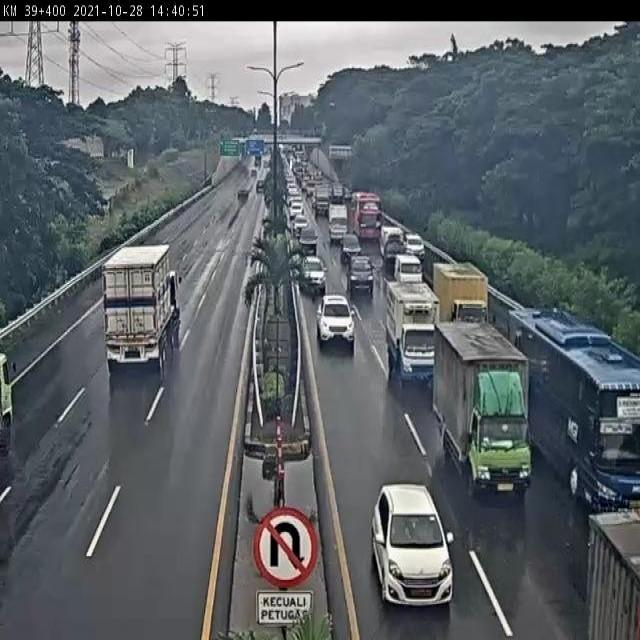Bus: (507, 306, 640, 506), (349, 192, 384, 240)
Car: (372, 477, 459, 612), (315, 293, 356, 346), (347, 256, 375, 298), (299, 256, 329, 294), (339, 234, 363, 262), (405, 235, 426, 262), (296, 230, 318, 253), (292, 215, 309, 235), (288, 203, 304, 219), (255, 177, 266, 192), (238, 187, 251, 199)
Truck: (430, 318, 534, 496), (102, 238, 184, 376), (584, 506, 640, 640), (385, 281, 442, 384), (434, 261, 499, 330), (329, 204, 349, 242), (315, 184, 330, 216), (332, 182, 346, 205)
Van: (393, 253, 424, 285), (379, 226, 403, 263)
